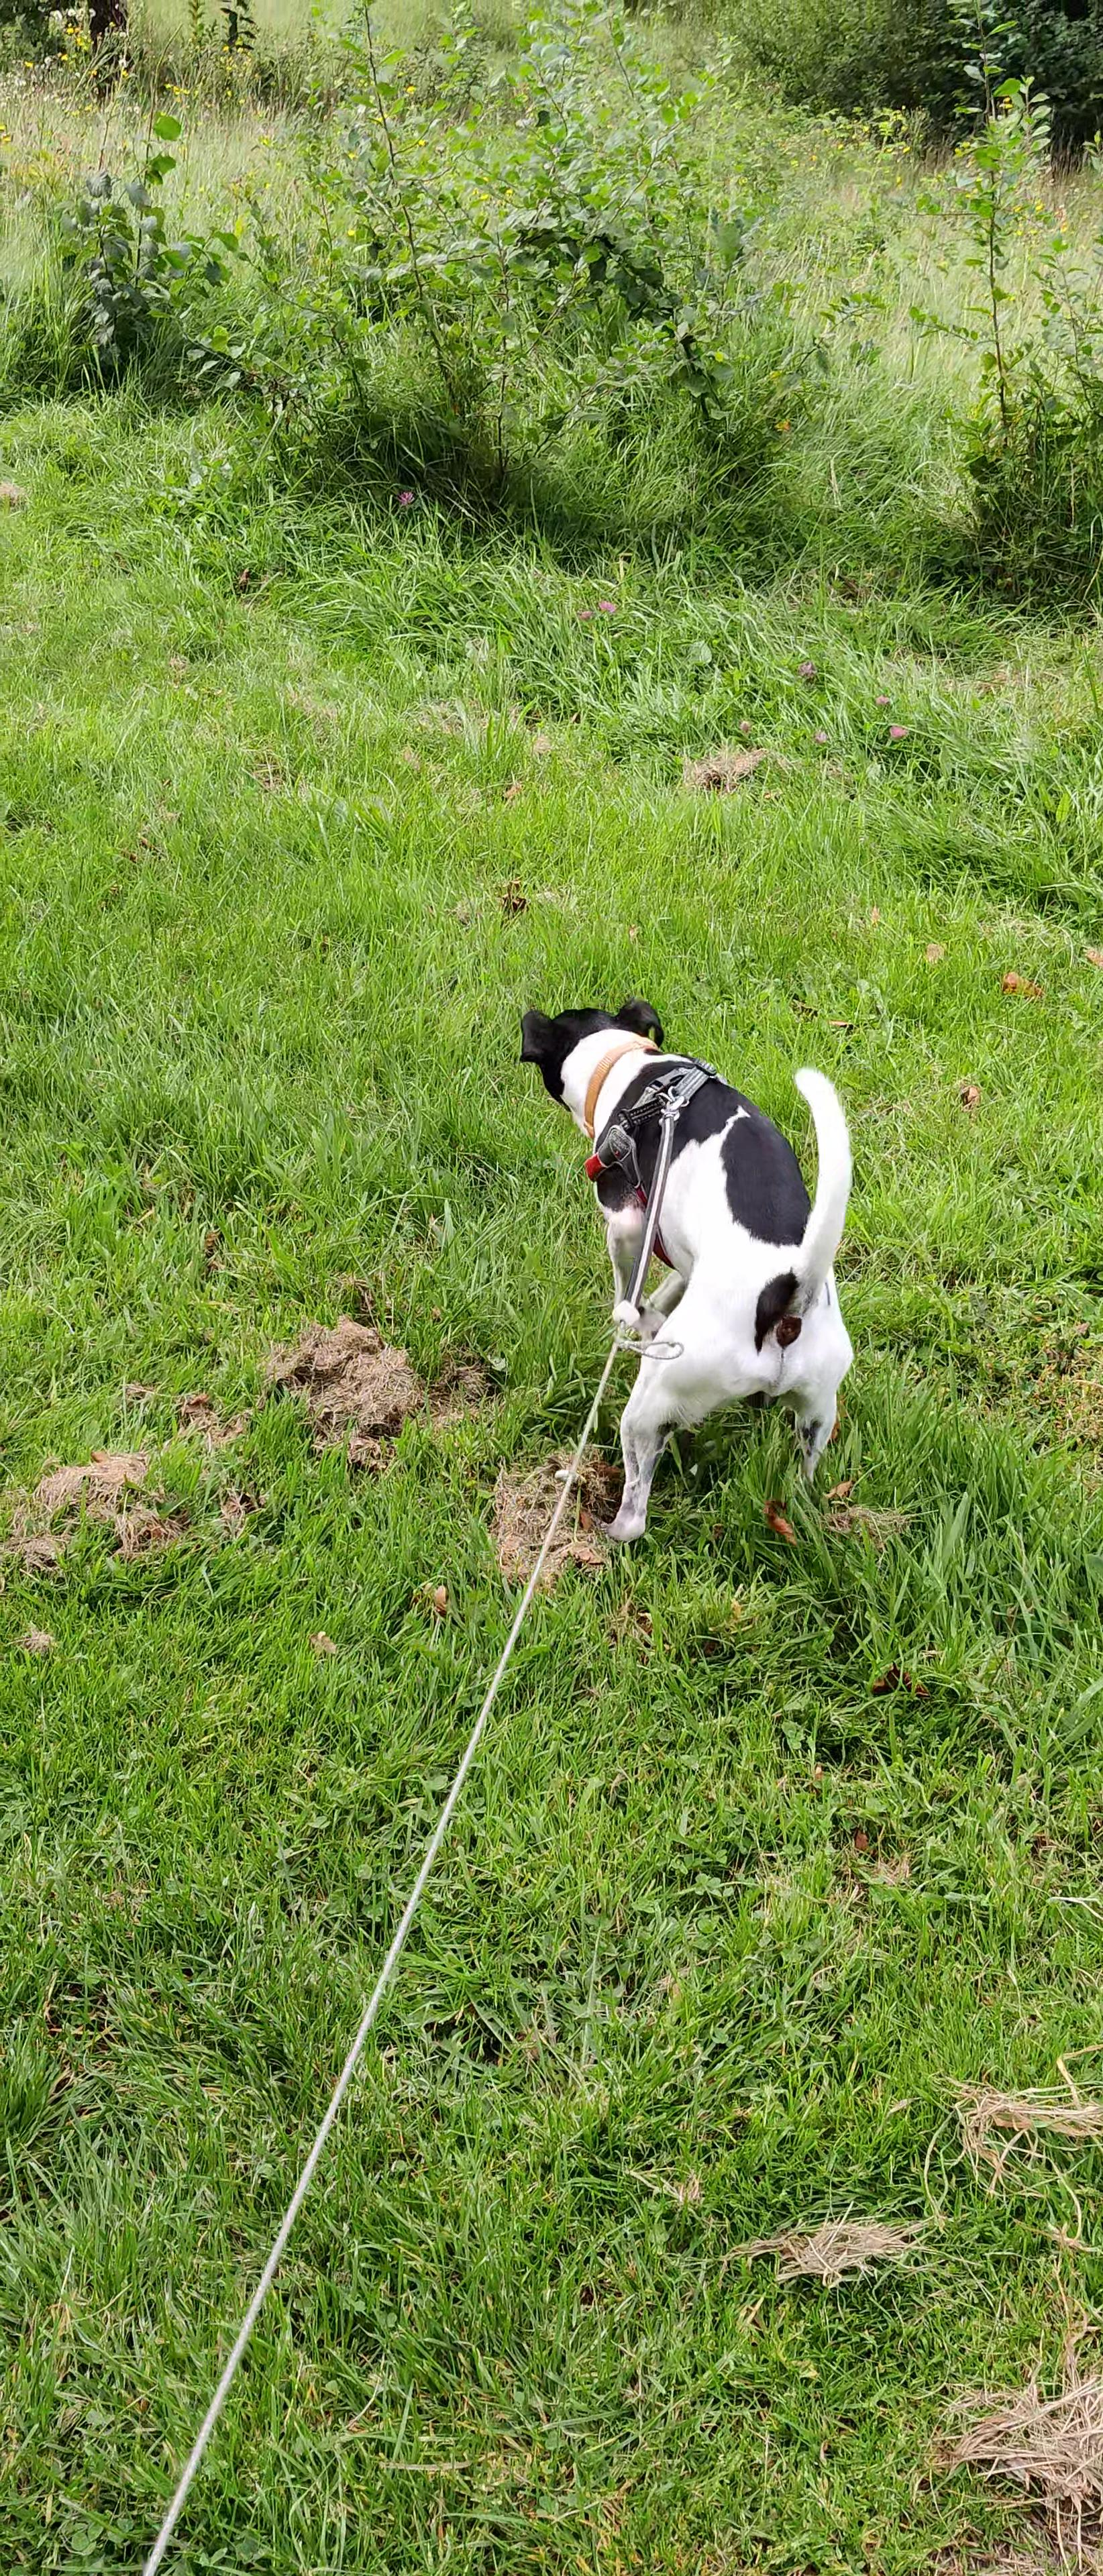Dog: (467, 969, 879, 1549)
